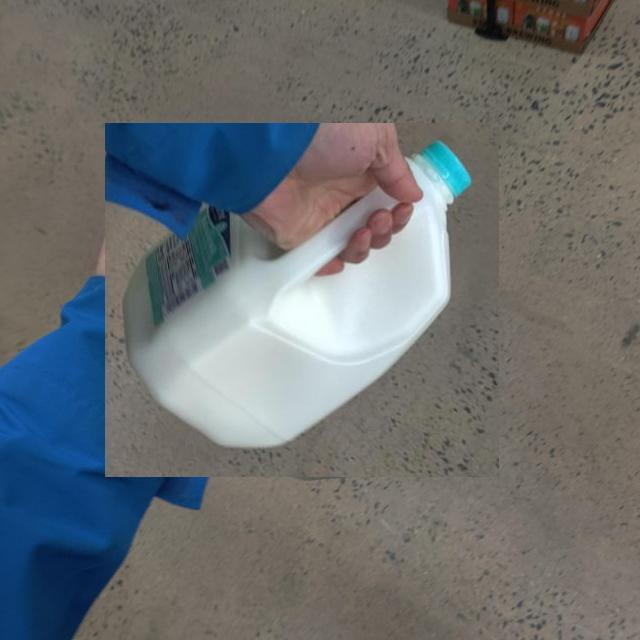Milk: (104, 124, 499, 477)
